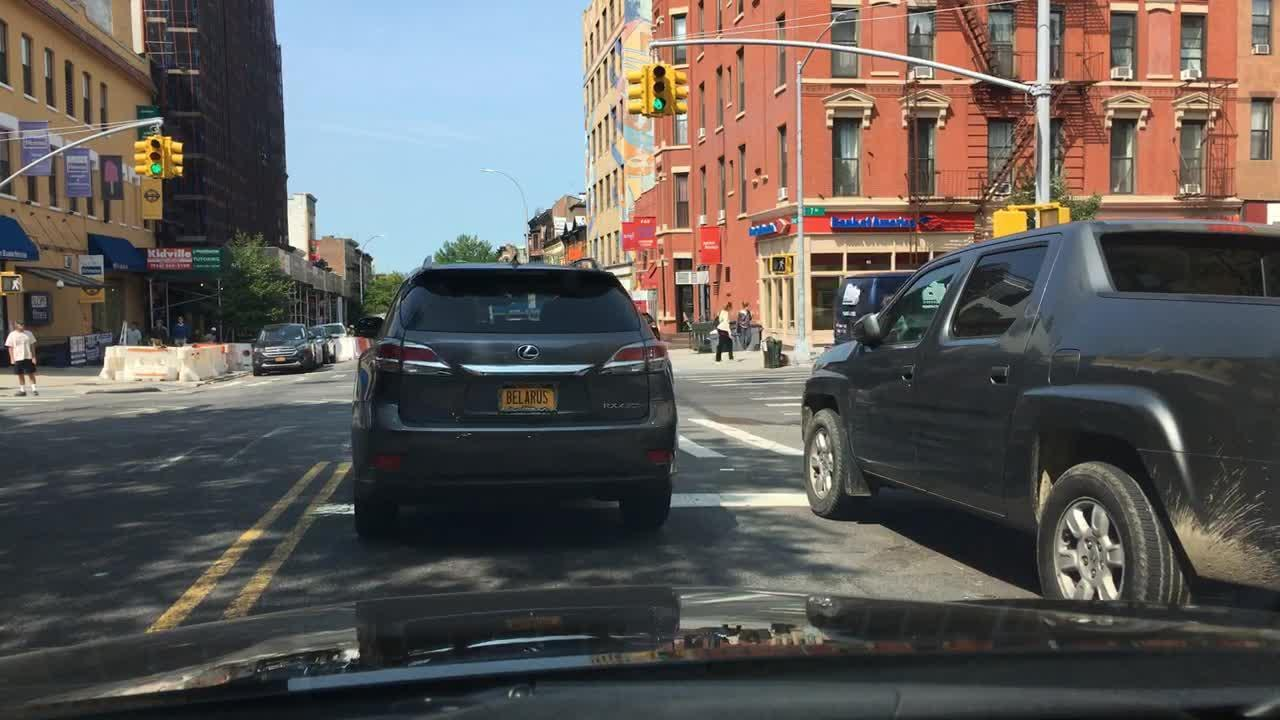lexus: (506, 332, 555, 374)
